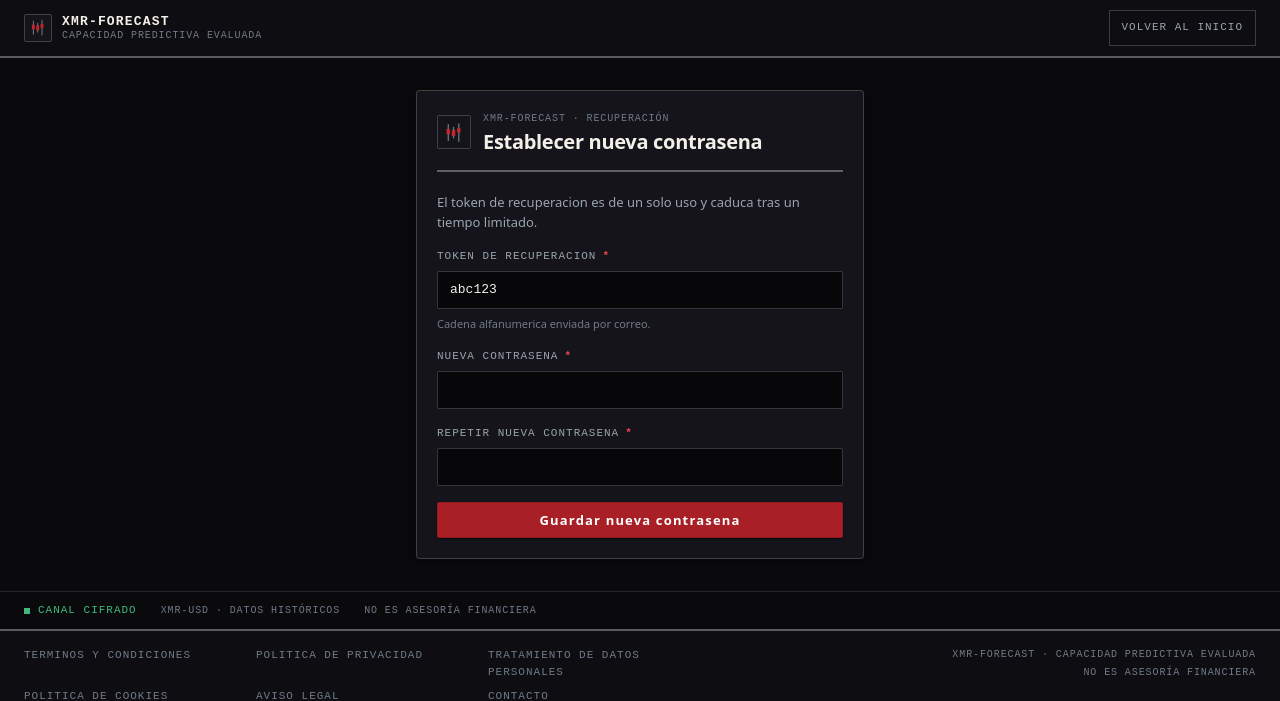
Scenario: password recovery › resets the password with a token and returns to login
Type "contrasena-larga-2" into the password field labelled "Nueva contrasena *" at (640, 390), box left=437, top=371, right=843, bottom=409
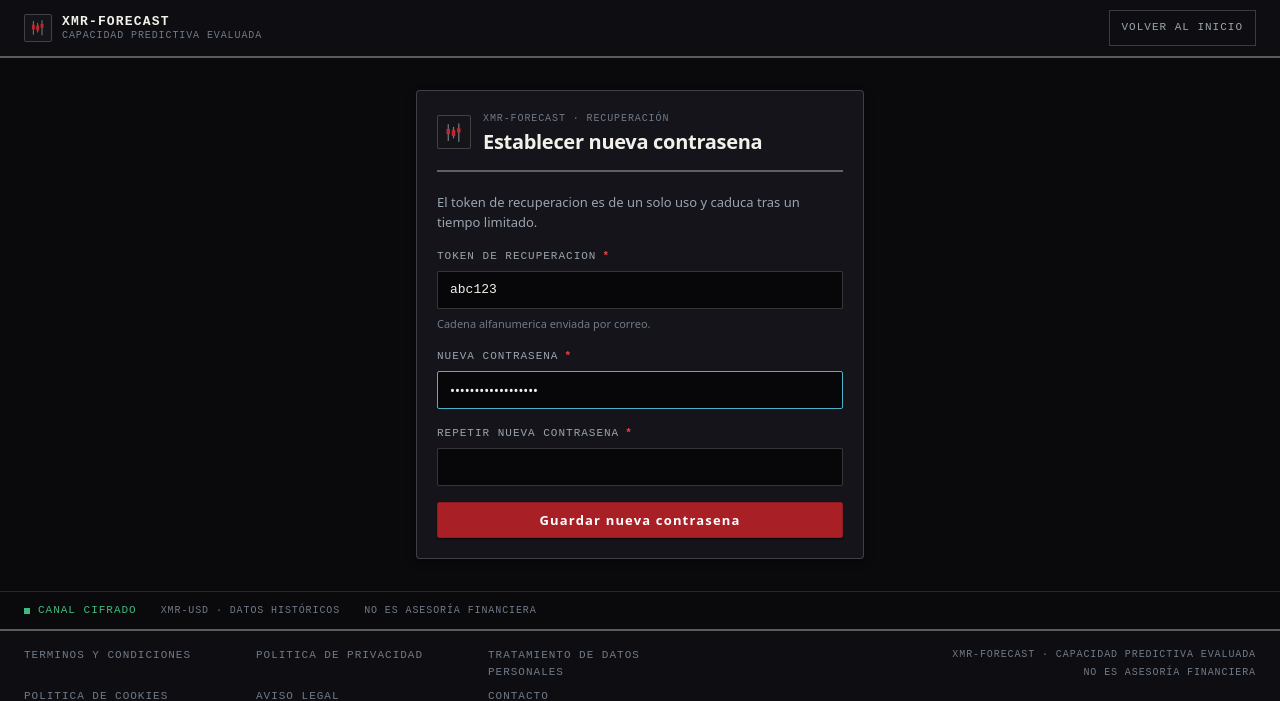
Type "contrasena-larga-2" into the password field labelled "Repetir nueva contrasena *" at (640, 467), box left=437, top=448, right=843, bottom=486
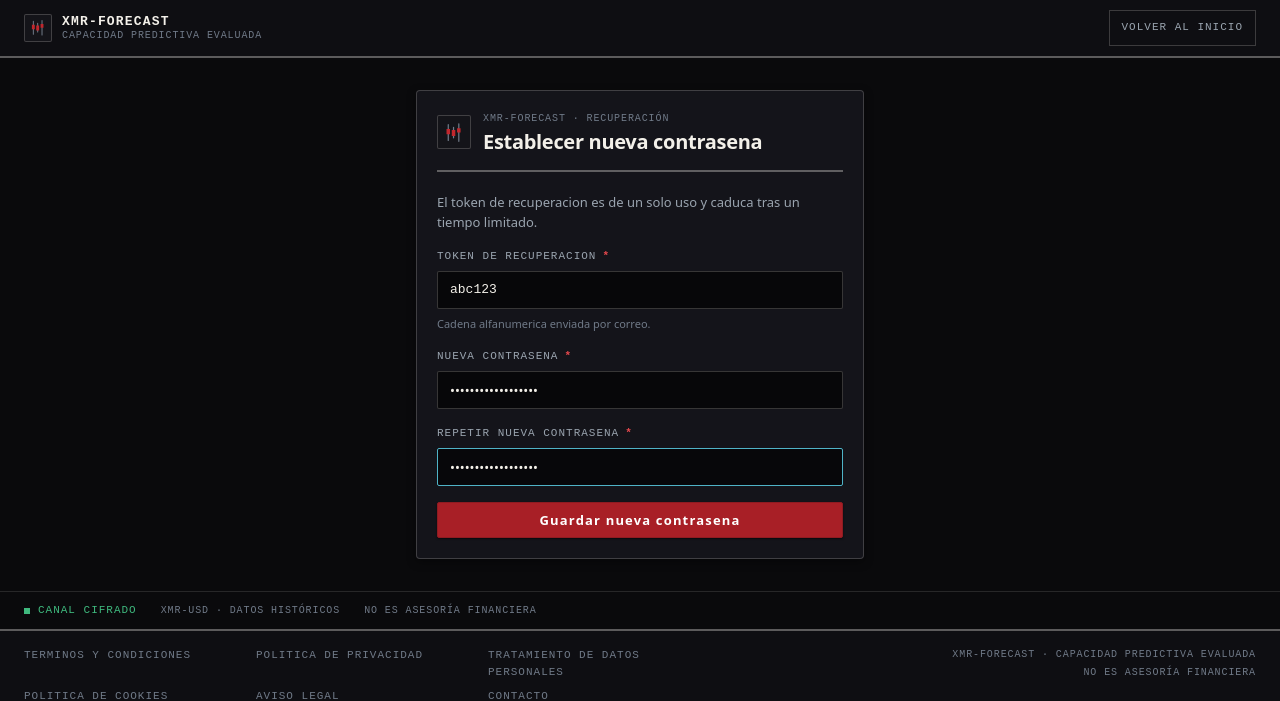
Click the button "Guardar nueva contrasena" at (640, 520), box left=437, top=502, right=843, bottom=538
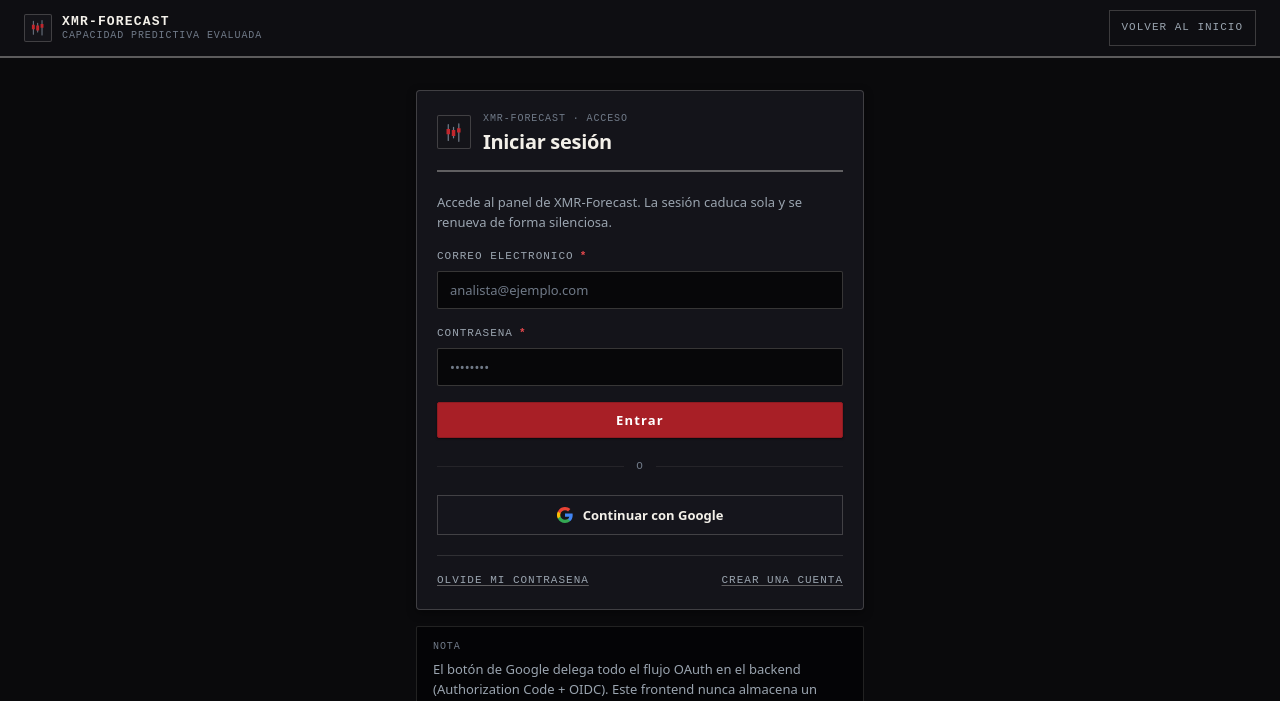
Expected: the heading "Iniciar sesión" is shown, left=483, top=128, right=628, bottom=154
